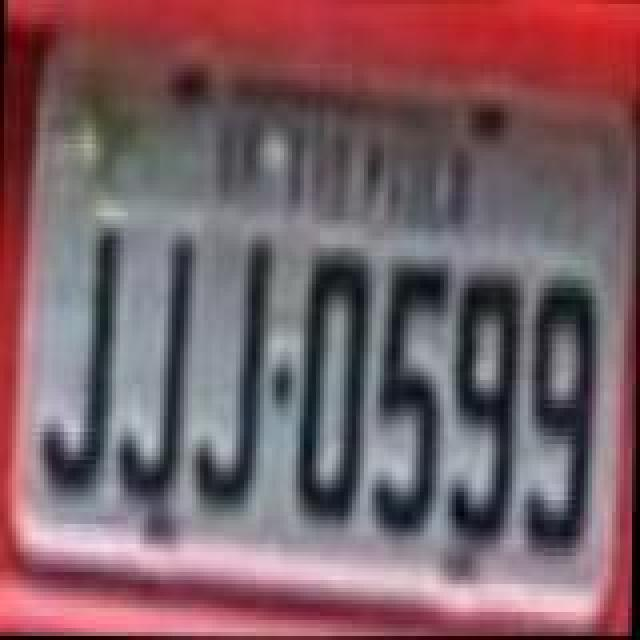5: (370, 264, 454, 544)
9: (520, 276, 600, 556), (444, 274, 524, 542)
J: (38, 222, 126, 490), (198, 232, 278, 512), (118, 236, 198, 504)
O: (292, 250, 372, 530)
